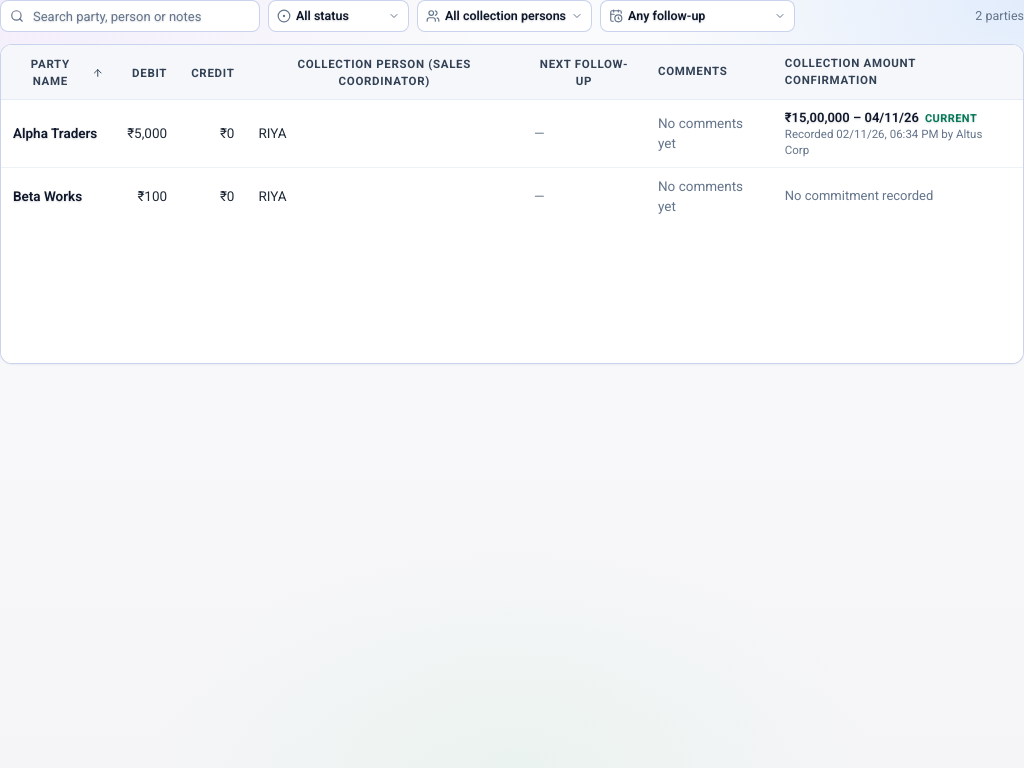
Test: the column and the popup show the same latest record › a newer commitment, once the page re-reads it, shows in the column exactly as the popup shows it
Check: the element named "Commitment for Alpha Traders" reads "₹15,00,000 – 04/11/26Current Recorded 02/11/26, 06:34 PM by Altus Corp", box x1=785 y1=108 x2=1009 y2=159
Click the button "Alpha Traders": (55, 133) x1=13 y1=123 x2=97 y2=143
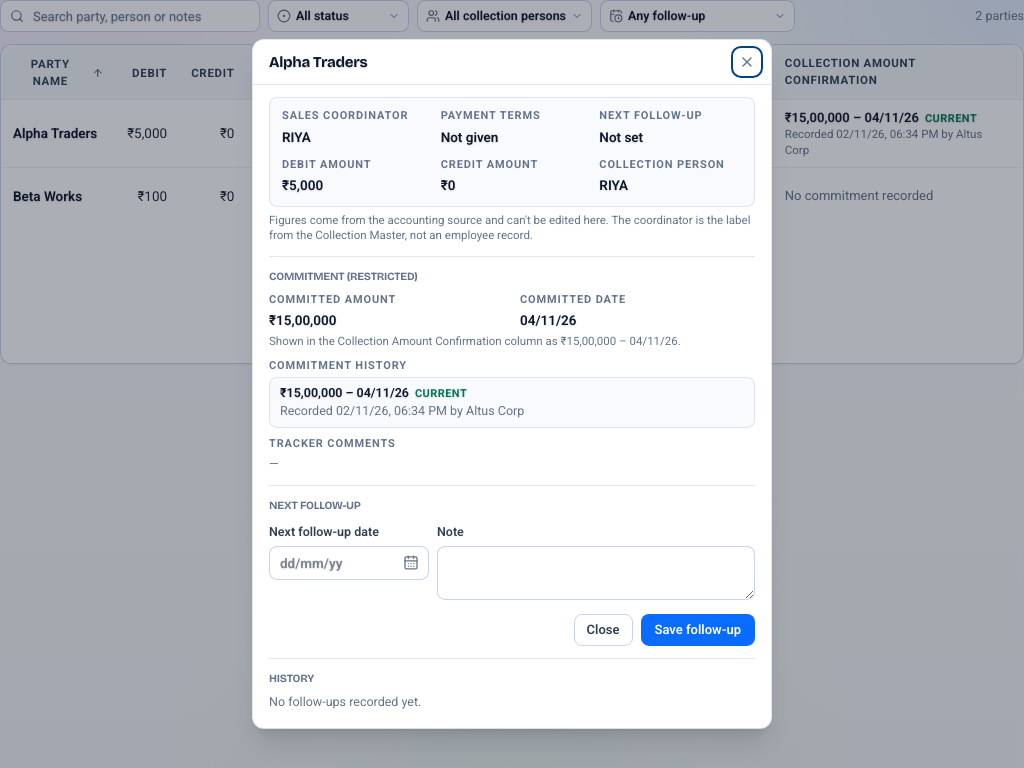
Check: the list item reads "₹15,00,000 – 04/11/26Current Recorded 02/11/26, 06:34 PM by Altus Corp", box x1=269 y1=377 x2=755 y2=428
